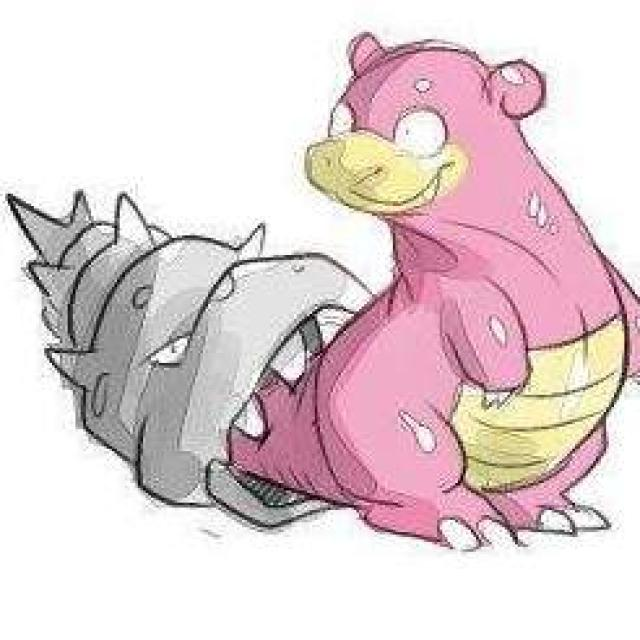Slowbro: (124, 26, 639, 514)
